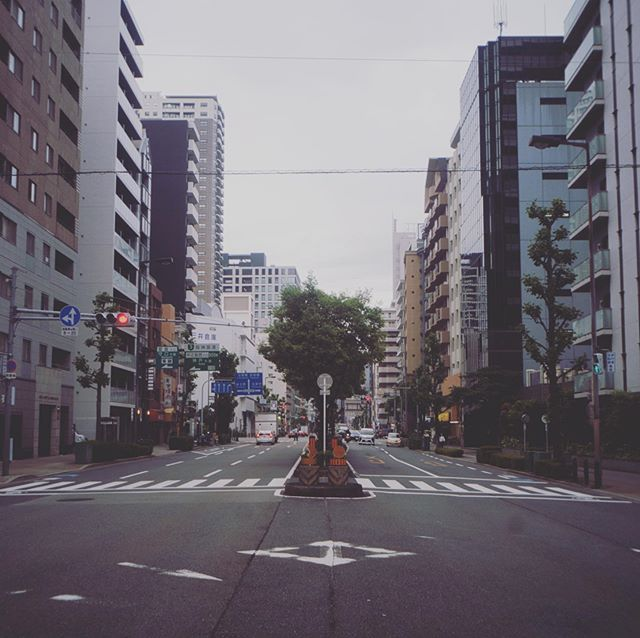building: (1, 1, 139, 449), (520, 1, 640, 448), (453, 33, 554, 463), (128, 91, 224, 453), (221, 252, 304, 443), (373, 216, 429, 433), (414, 156, 456, 417)
crosswalk: (9, 466, 291, 495), (357, 471, 612, 503)
sky: (180, 1, 490, 143), (228, 137, 421, 263)
street: (1, 440, 640, 638)
tree: (271, 282, 382, 450)
